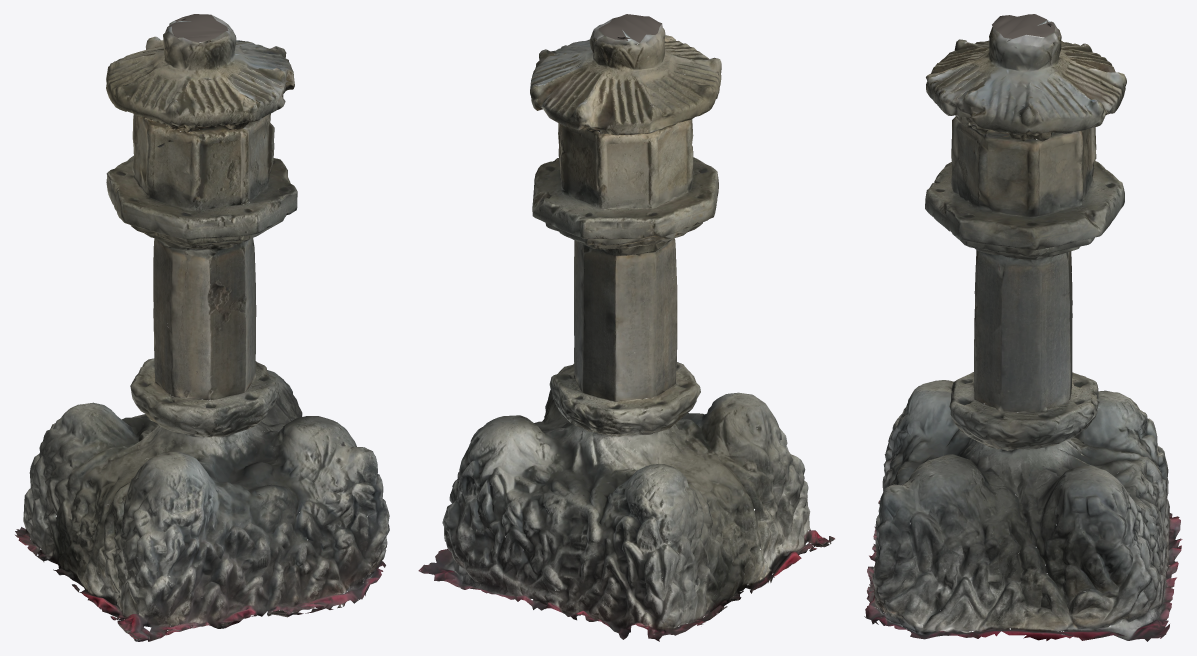
Rendered from tang-stone-lantern.glb.
3 views of the same model, side by side, from view 1: azimuth 30°, elevation 25°; view 2: azimuth 150°, elevation 25°; view 3: azimuth 270°, elevation 25° (orthographic). The views are drawn at different scales.
Parts seen in each view (by area): view 1: tang-stone-lantern; view 2: tang-stone-lantern; view 3: tang-stone-lantern.
Boxes of the visible parts, x1,y1,x2,y2 form: tang-stone-lantern: (15,14,389,641); tang-stone-lantern: (418,14,834,641); tang-stone-lantern: (864,14,1182,641).
Size of the model in its own units: 7.35 by 13.51 by 7.
1 material, 1 textured.
